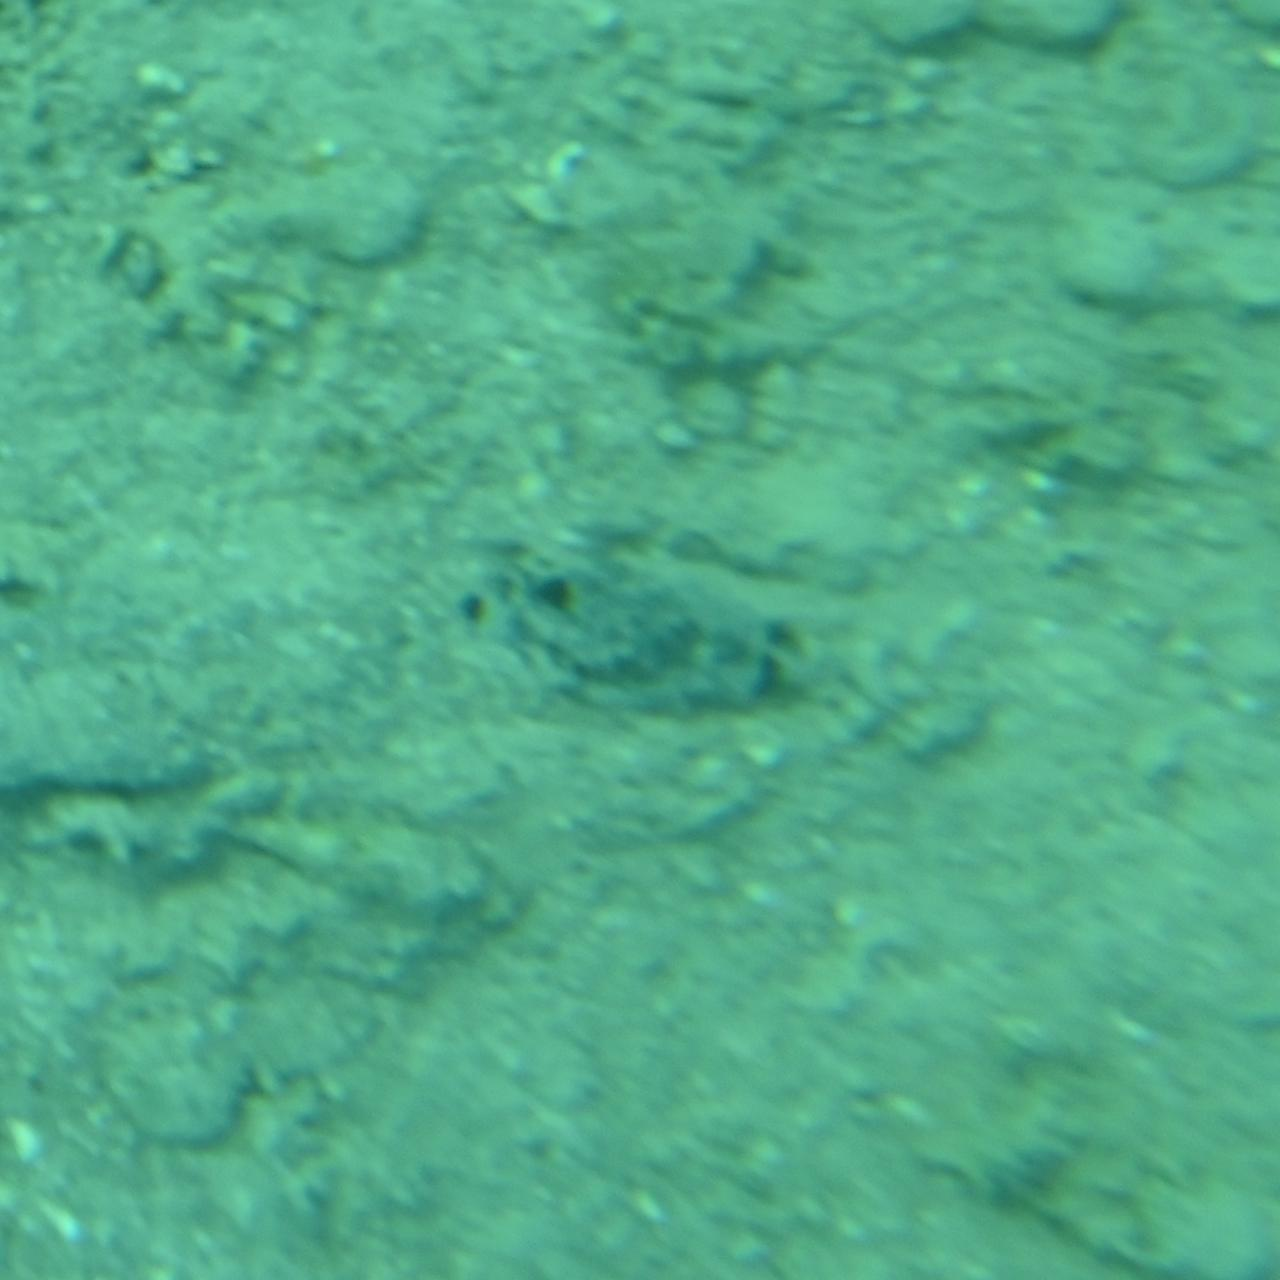Keratosa -cfr Sarcotragus-: (454, 554, 826, 726)
